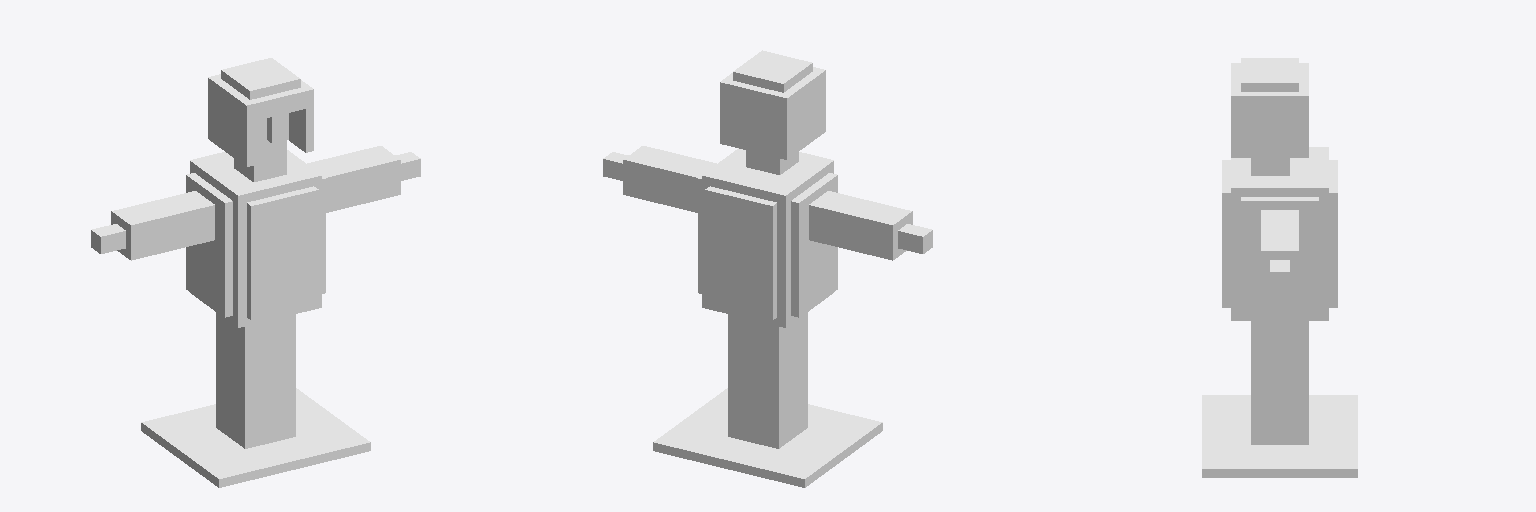
File: Scarecrow1-0.obj
The picture shows the model from 3 angles: view 1: azimuth 30°, elevation 25°; view 2: azimuth 150°, elevation 25°; view 3: azimuth 270°, elevation 25°; orthographic projection.
Visible parts, largest first — view 1: object 1; view 2: object 1; view 3: object 1.
Boxes of the visible parts, <box> form: object 1: <box>91,58,420,487</box>; object 1: <box>603,50,932,487</box>; object 1: <box>1202,58,1357,477</box>.
Bounding box in the file's own units: 3.8 × 4.2 × 1.6.